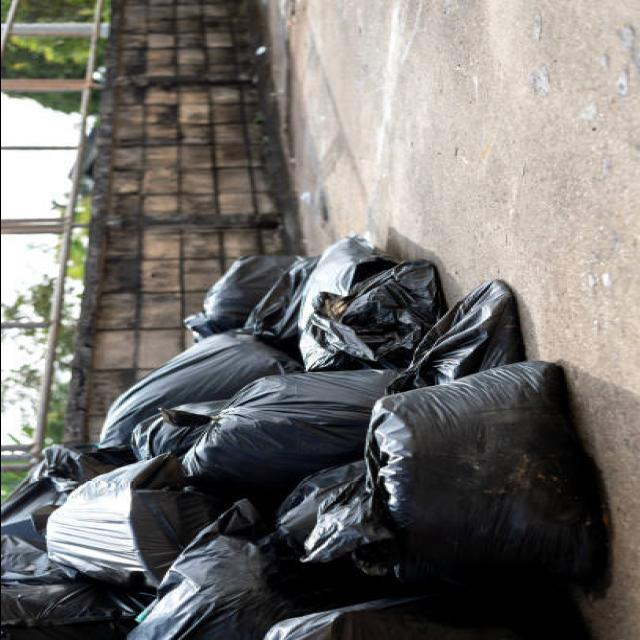Trashbag: (358, 392, 636, 572), (292, 252, 430, 366), (190, 382, 376, 466), (32, 464, 181, 564), (182, 258, 306, 334), (417, 300, 533, 378), (84, 346, 261, 396), (0, 565, 138, 629), (183, 529, 264, 634), (267, 474, 353, 564)
